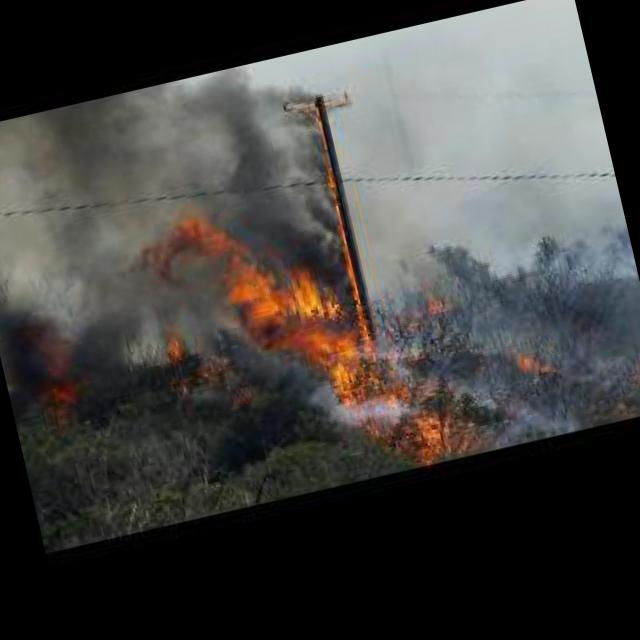fire: (164, 113, 470, 493)
smoke: (173, 48, 354, 298)
